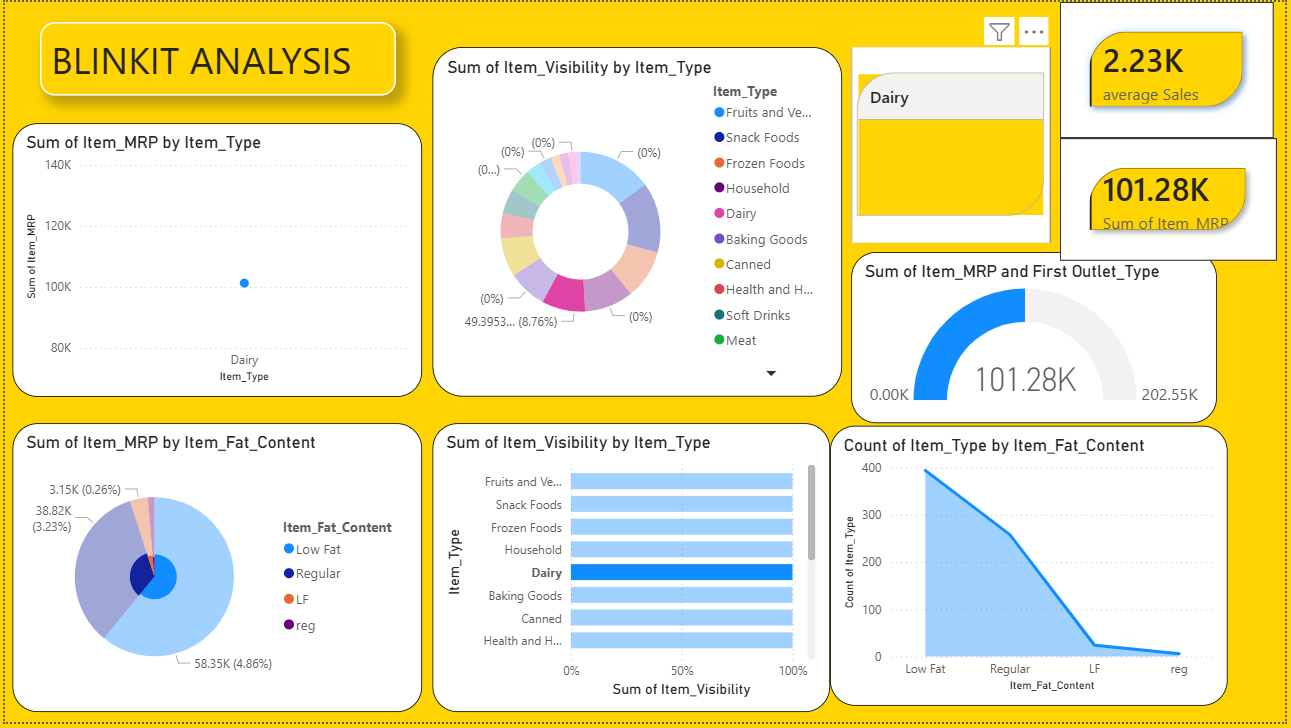

The dashboard page shown, as its layout file describes it:
{"tool":"powerbi","page":{"name":"Page 1","canvas":[1280,720],"ordinal":0},"visuals":[{"type":"stackedAreaChart","fields":{"Category":["Tableau BlinkIT Grocery Project.Item_Fat_Content"],"Y":["CountNonNull(Tableau BlinkIT Grocery Project.Item_Type)"]},"box":[825.4,424.3,397.4,280],"z":0},{"type":"pieChart","fields":{"Category":["Tableau BlinkIT Grocery Project.Item_Fat_Content"],"Y":["Sum(Tableau BlinkIT Grocery Project.Item_MRP)"]},"box":[7.3,420.7,409.6,288.6],"z":1000},{"type":"donutChart","fields":{"Y":["Sum(Tableau BlinkIT Grocery Project.Item_Visibility)"],"Category":["Tableau BlinkIT Grocery Project.Item_Type"]},"box":[428,45.2,409.6,349.7],"z":2000},{"type":"cardVisual","fields":{"Data":["Tableau BlinkIT Grocery Project.average Sales"]},"box":[1055.3,0,214,135.7],"z":3000},{"type":"cardVisual","fields":{"Rows":["Tableau BlinkIT Grocery Project.Item_Type"]},"box":[846.2,45.2,199.3,195.7],"z":4000},{"type":"hundredPercentStackedBarChart","fields":{"Category":["Tableau BlinkIT Grocery Project.Item_Type"],"Y":["Sum(Tableau BlinkIT Grocery Project.Item_Visibility)"]},"box":[428,420.7,397.4,288.6],"z":5000},{"type":"gauge","fields":{"Y":["Sum(Tableau BlinkIT Grocery Project.Item_MRP)"]},"box":[846.2,249.5,365.6,171.2],"z":6000},{"type":"lineChart","fields":{"Y":["Sum(Tableau BlinkIT Grocery Project.Item_MRP)"],"Category":["Tableau BlinkIT Grocery Project.Item_Type"]},"box":[7.3,121.1,409.6,273.9],"z":7000},{"type":"textbox","box":[35.5,19.6,355.8,73.4],"z":8000},{"type":"cardVisual","fields":{"Data":["Sum(Tableau BlinkIT Grocery Project.Item_MRP)"]},"box":[1055.3,135.7,216.4,122.3],"z":9000}]}

Visuals, with their boxes in screenshot pixels (x1, y1, x2, y2), scaled from the page's 1280x720 canvas onto the 1291x728 screenshot:
stackedAreaChart - Tableau BlinkIT Grocery Project.Item_Fat_Content x CountNonNull(Tableau BlinkIT Grocery Project.Item_Type): [left=832, top=429, right=1233, bottom=712]
pieChart - Tableau BlinkIT Grocery Project.Item_Fat_Content x Sum(Tableau BlinkIT Grocery Project.Item_MRP): [left=7, top=425, right=420, bottom=717]
donutChart - Sum(Tableau BlinkIT Grocery Project.Item_Visibility) x Tableau BlinkIT Grocery Project.Item_Type: [left=432, top=46, right=845, bottom=399]
cardVisual - Tableau BlinkIT Grocery Project.average Sales: [left=1064, top=0, right=1280, bottom=137]
cardVisual - Tableau BlinkIT Grocery Project.Item_Type: [left=853, top=46, right=1054, bottom=244]
hundredPercentStackedBarChart - Tableau BlinkIT Grocery Project.Item_Type x Sum(Tableau BlinkIT Grocery Project.Item_Visibility): [left=432, top=425, right=832, bottom=717]
gauge - Sum(Tableau BlinkIT Grocery Project.Item_MRP): [left=853, top=252, right=1222, bottom=425]
lineChart - Sum(Tableau BlinkIT Grocery Project.Item_MRP) x Tableau BlinkIT Grocery Project.Item_Type: [left=7, top=122, right=420, bottom=399]
textbox: [left=36, top=20, right=395, bottom=94]
cardVisual - Sum(Tableau BlinkIT Grocery Project.Item_MRP): [left=1064, top=137, right=1283, bottom=261]
